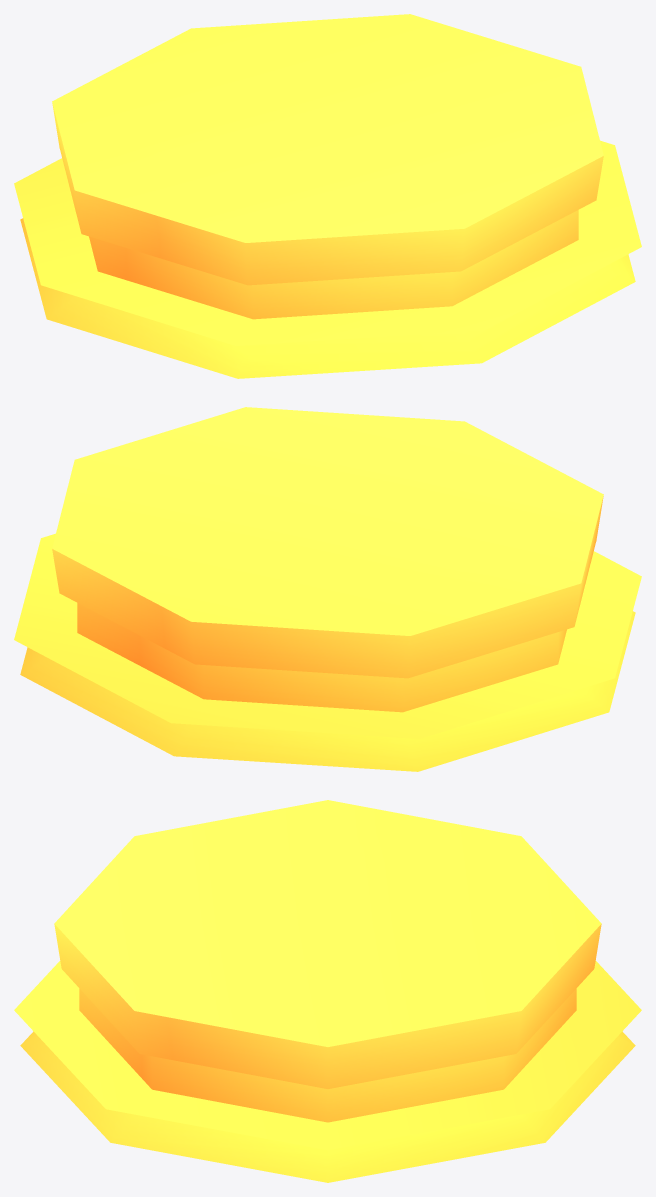
Rendered from gold_guard_020.glb.
The picture shows the model from 3 angles, top to bottom: view 1: azimuth 30°, elevation 25°; view 2: azimuth 150°, elevation 25°; view 3: azimuth 270°, elevation 25°; orthographic projection.
Parts seen in each view (by area): view 1: gold_guard_020; view 2: gold_guard_020; view 3: gold_guard_020.
Part boxes in pixels (x1=…): gold_guard_020: x1=14, y1=14, x2=641, y2=378; gold_guard_020: x1=14, y1=407, x2=641, y2=771; gold_guard_020: x1=14, y1=800, x2=641, y2=1182.
Size of the model in its own units: 4.9 by 0.9958 by 4.64.
Materials: 1 (1 with a texture image).
